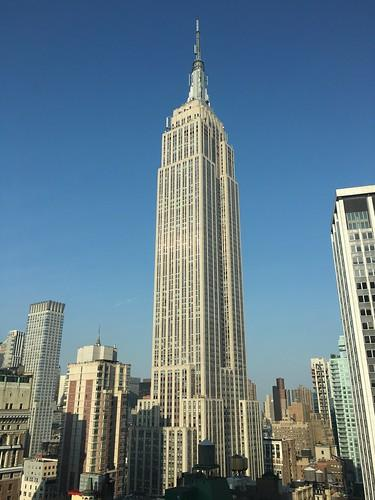building: (150, 42, 266, 499), (60, 336, 134, 500)
